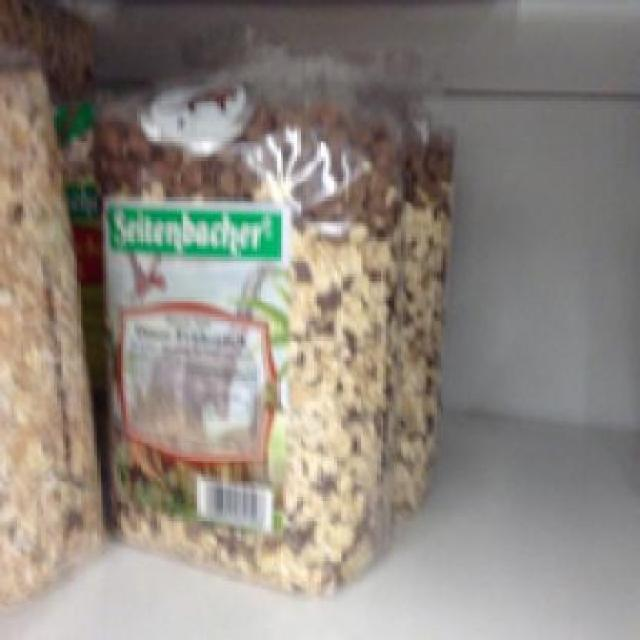Cereal: (103, 74, 400, 592)
